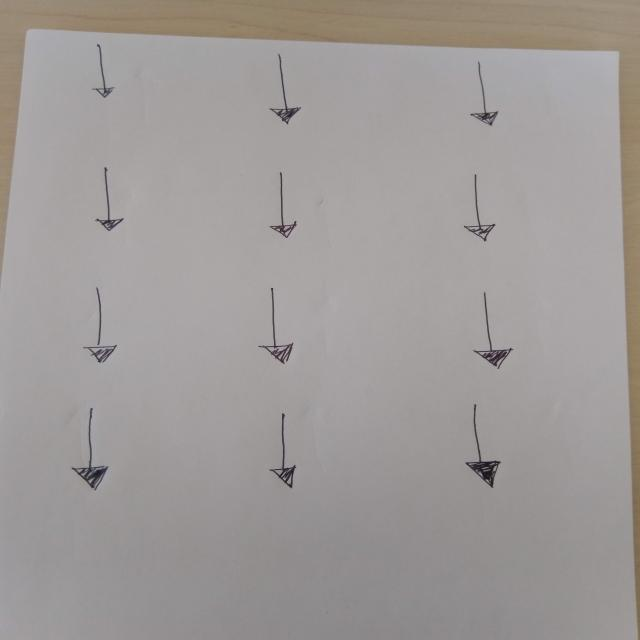arrow_line_down: (453, 411, 513, 491), (467, 292, 515, 372), (80, 286, 126, 368), (64, 408, 108, 490), (258, 414, 304, 492), (265, 54, 311, 128), (257, 286, 298, 368), (464, 62, 504, 130), (460, 174, 496, 247), (264, 170, 296, 241), (93, 168, 124, 232), (84, 44, 120, 99)
